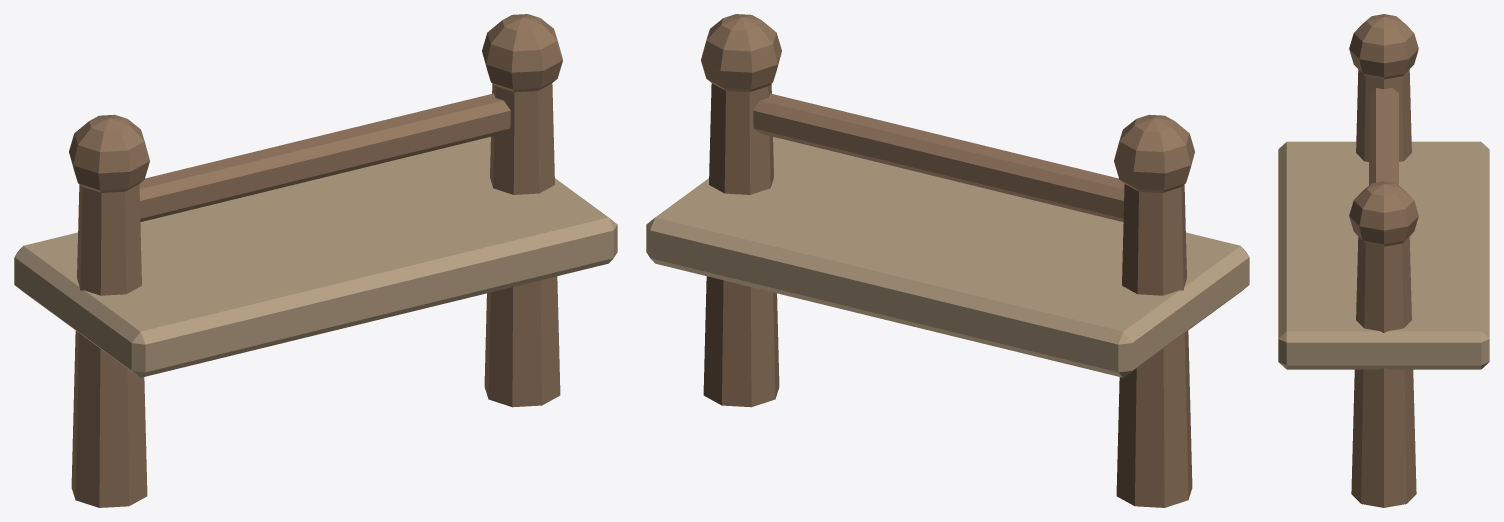
Rendered from hitching_post.glb.
The picture shows the model from 3 angles, left to right: view 1: azimuth 30°, elevation 25°; view 2: azimuth 150°, elevation 25°; view 3: azimuth 270°, elevation 25°; orthographic projection. The views are drawn at different scales.
Visible parts, largest first — view 1: hitching_post_2, hitching_post_0; view 2: hitching_post_2, hitching_post_0; view 3: hitching_post_2, hitching_post_0.
Part boxes in pixels (x1,y1,x2,y2): hitching_post_2: (14, 137, 617, 377); hitching_post_0: (69, 14, 562, 507); hitching_post_2: (646, 137, 1249, 377); hitching_post_0: (701, 14, 1194, 507); hitching_post_2: (1278, 141, 1489, 369); hitching_post_0: (1349, 14, 1418, 507).
Size of the model in its own units: 2 by 1.47 by 0.909.
